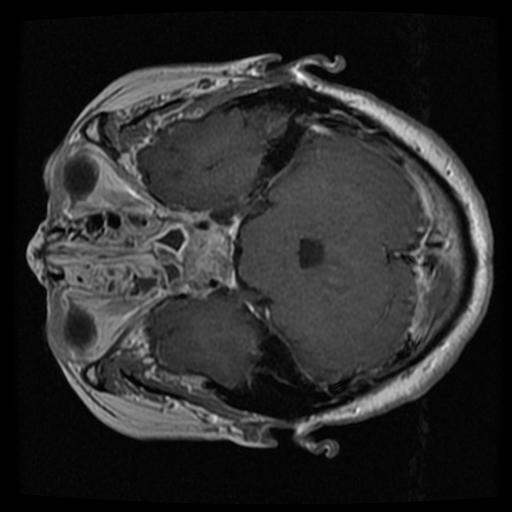pituitary tumour: (178, 226, 230, 280)
